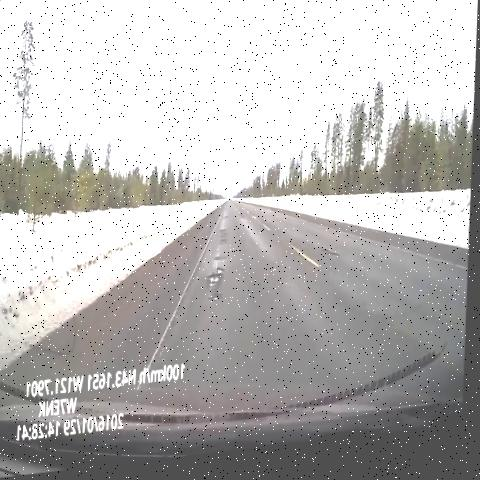pothole: (208, 263, 232, 320), (320, 246, 348, 277), (218, 227, 235, 255), (238, 211, 249, 228), (226, 215, 235, 229)
